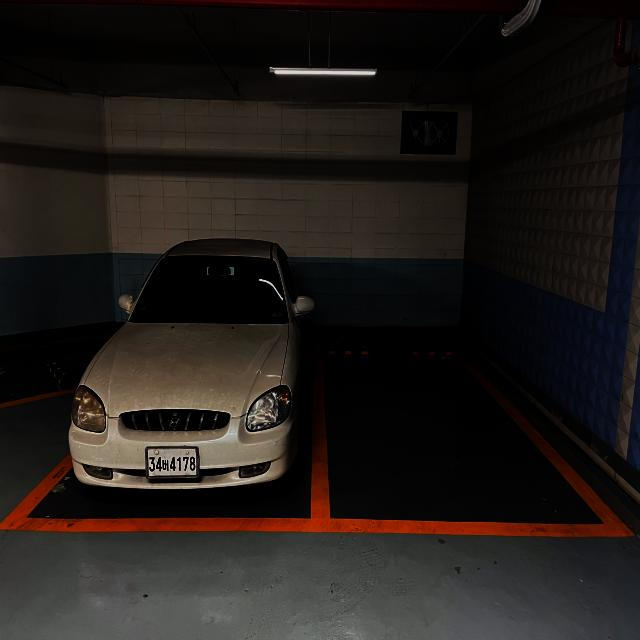empty: (314, 339, 631, 534)
occupied: (53, 239, 311, 527)
